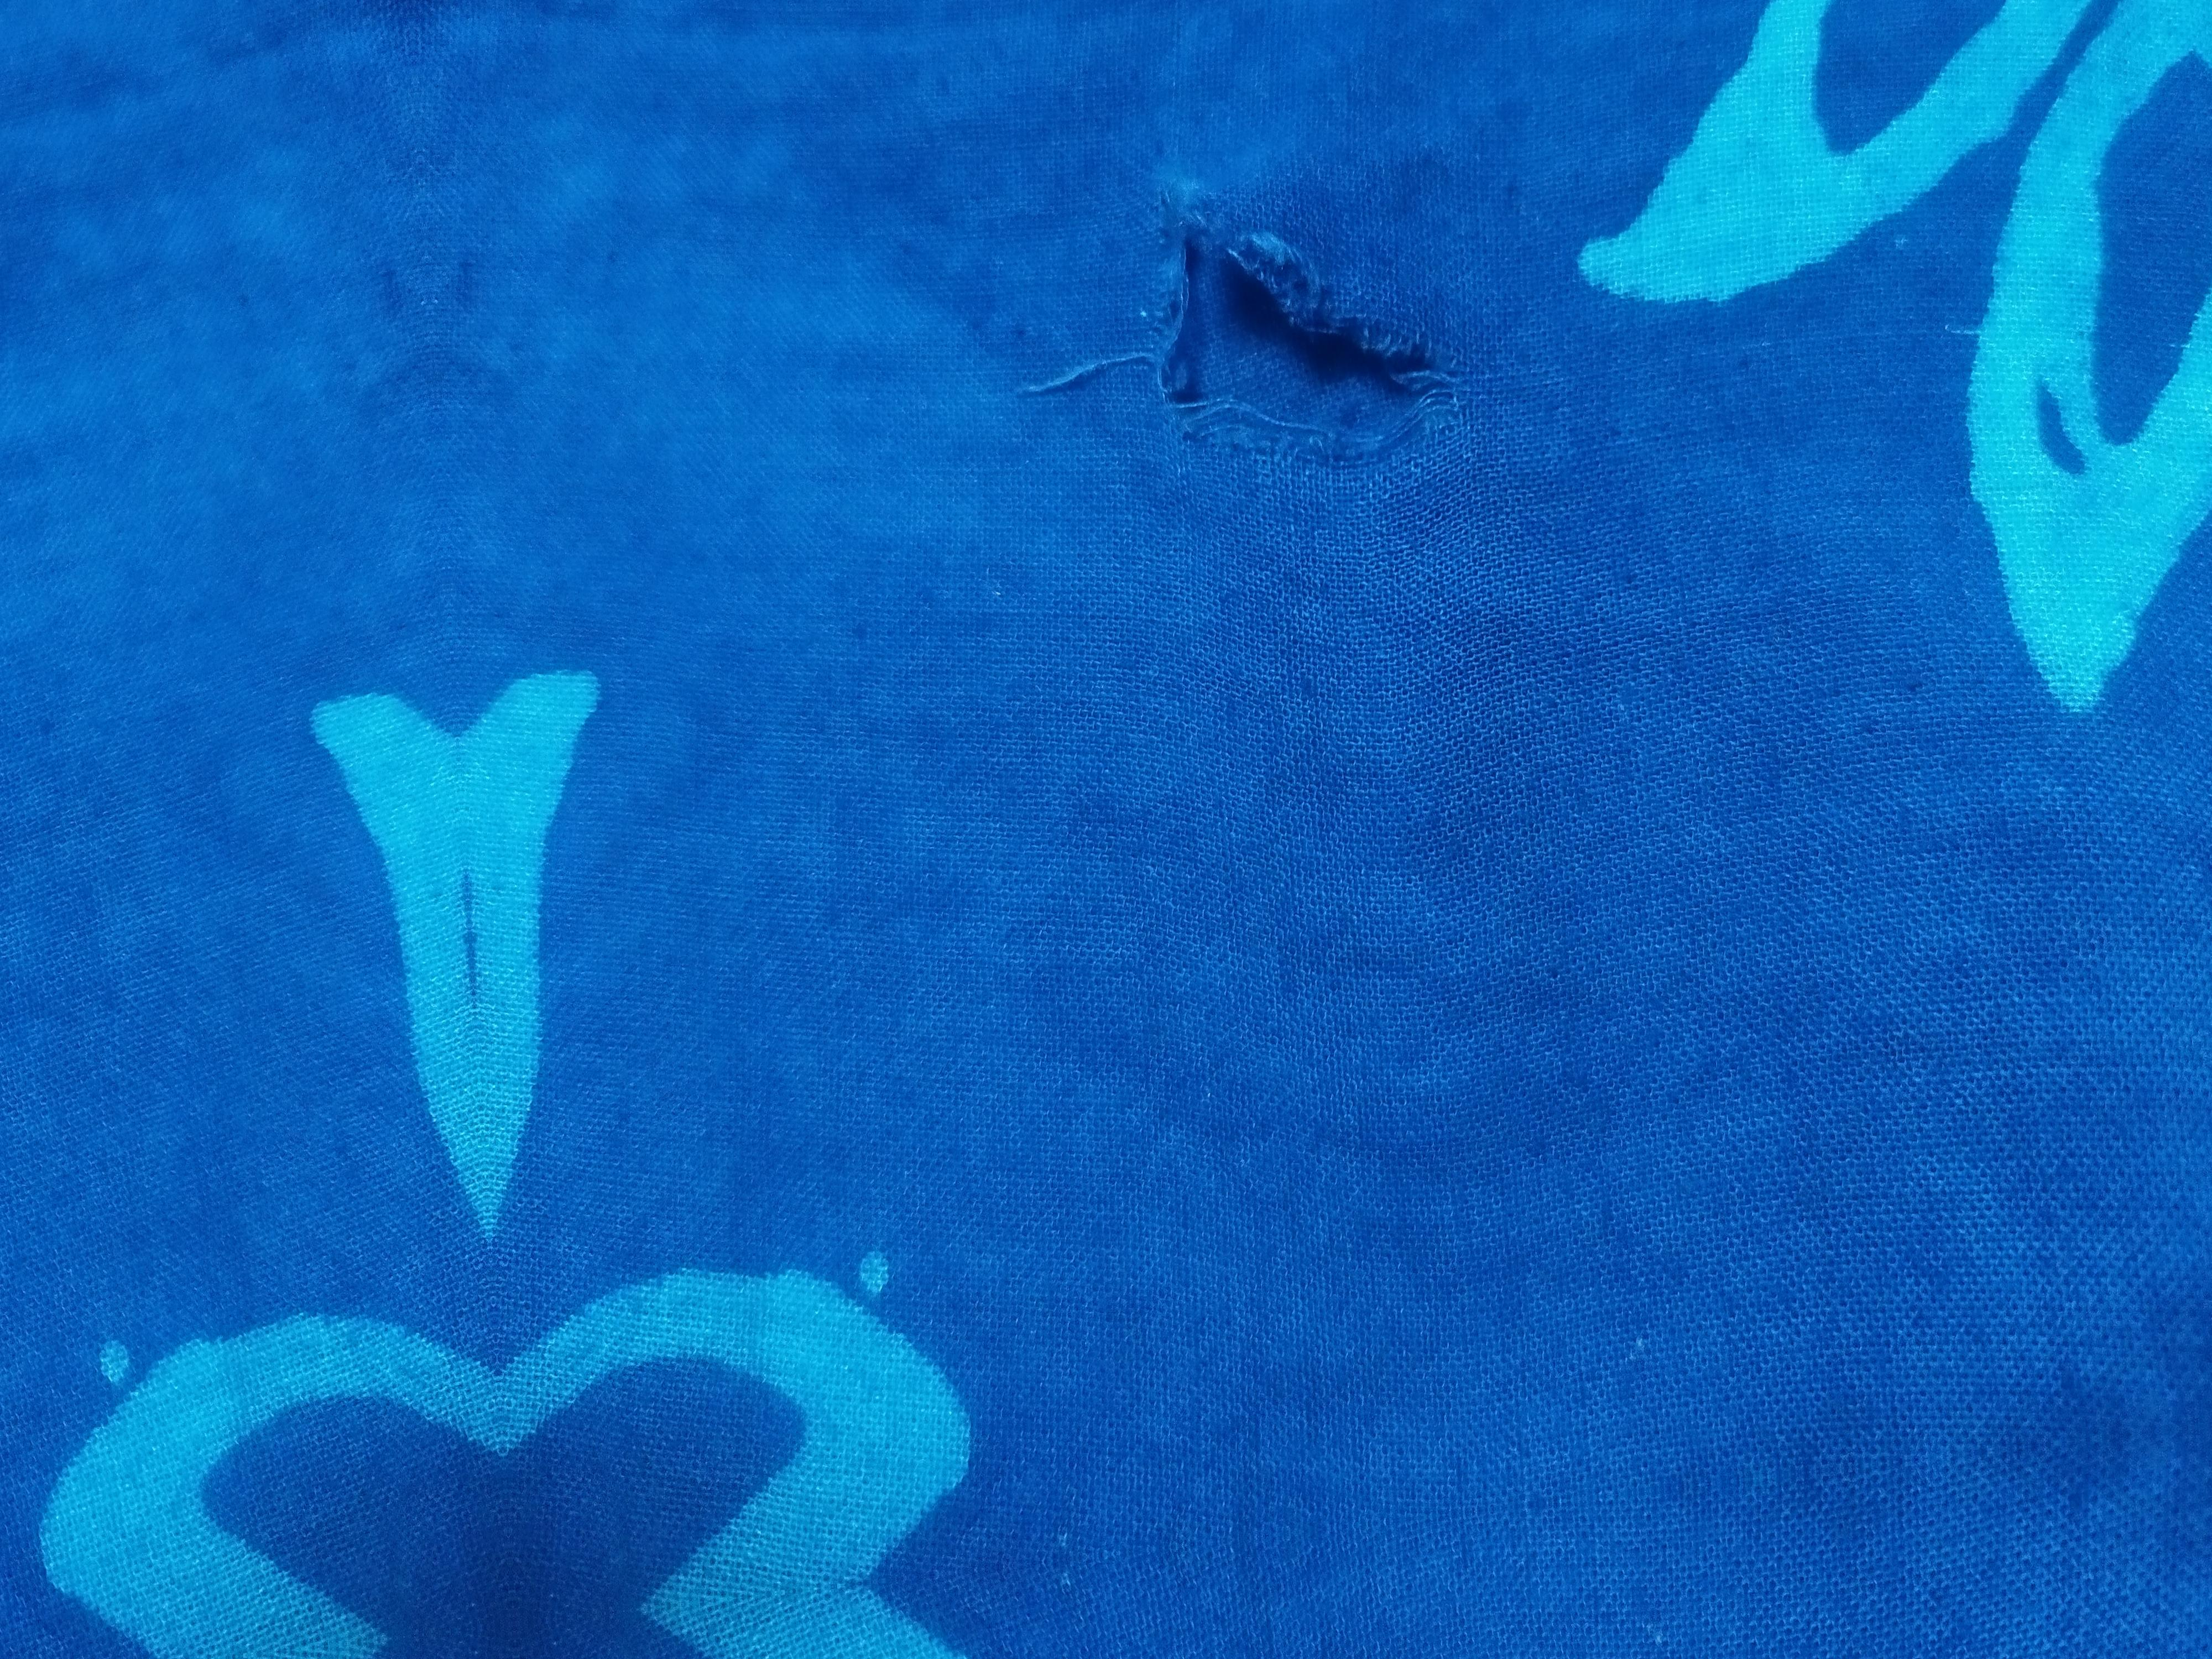hole: (1130, 179, 1475, 498)
